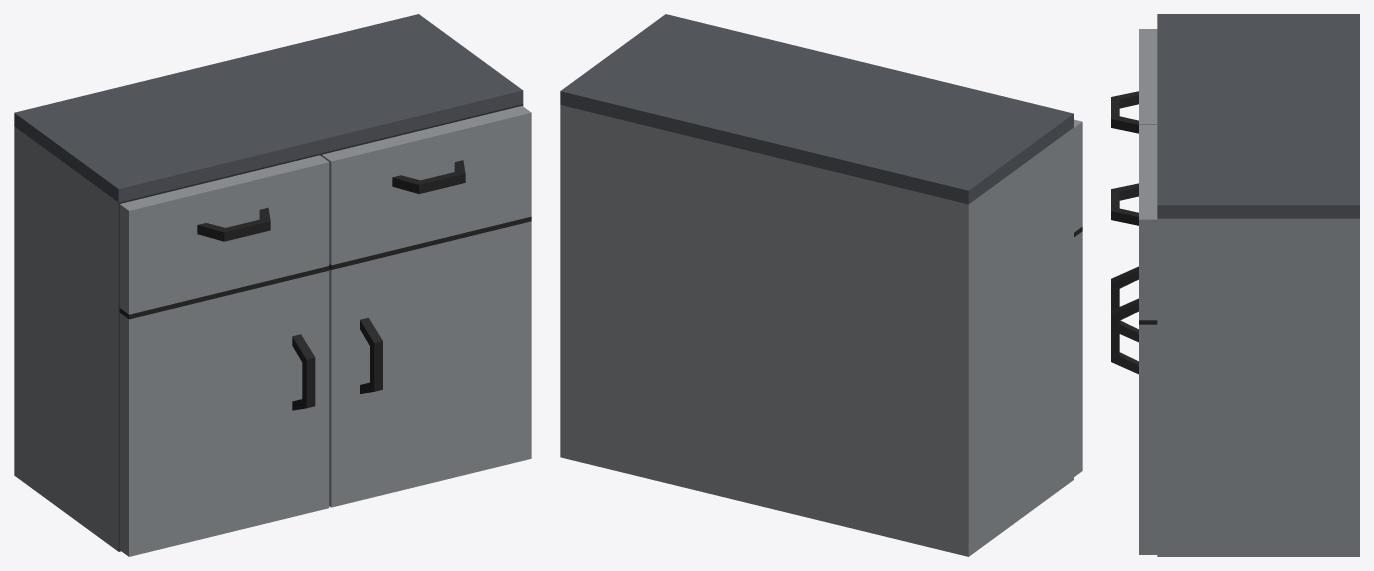
The model's file is Kitchen_Cabinet_4C.fbx.
The picture shows the model from 3 angles, left to right: view 1: azimuth 30°, elevation 25°; view 2: azimuth 150°, elevation 25°; view 3: azimuth 270°, elevation 25°; orthographic projection. The views are drawn at different scales.
Parts seen in each view (by area): view 1: polySurface1783; view 2: polySurface1783; view 3: polySurface1783.
Part boxes in pixels (x1,y1,x2,y2): polySurface1783: (14,14,531,556); polySurface1783: (560,14,1082,556); polySurface1783: (1111,14,1359,556).
Size of the model in its own units: 1.56 by 1.34 by 0.8565.
1 material, 1 textured.
